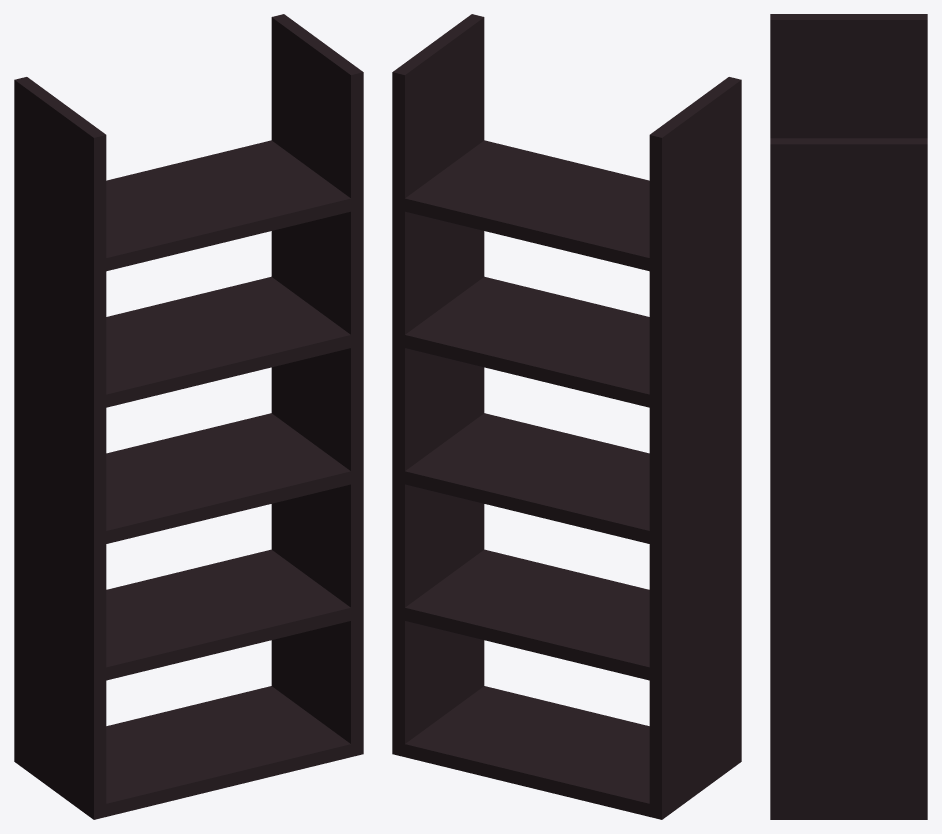
The model's file is Prop_Shelve_09.fbx.
3 views of the same model, side by side, from view 1: azimuth 30°, elevation 25°; view 2: azimuth 150°, elevation 25°; view 3: azimuth 270°, elevation 25° (orthographic).
Visible parts, largest first — view 1: Prop_Shelve_09; view 2: Prop_Shelve_09; view 3: Prop_Shelve_09.
Part boxes in pixels (x1=…): Prop_Shelve_09: x1=14, y1=14, x2=363, y2=819; Prop_Shelve_09: x1=392, y1=14, x2=741, y2=819; Prop_Shelve_09: x1=770, y1=14, x2=927, y2=819.
Bounding box in the file's own units: 78.98 × 191 × 40.32.
